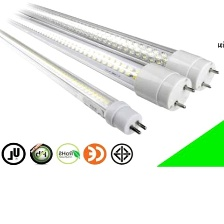light_bulb: (0, 0, 200, 113), (0, 0, 222, 94), (0, 22, 148, 138)
